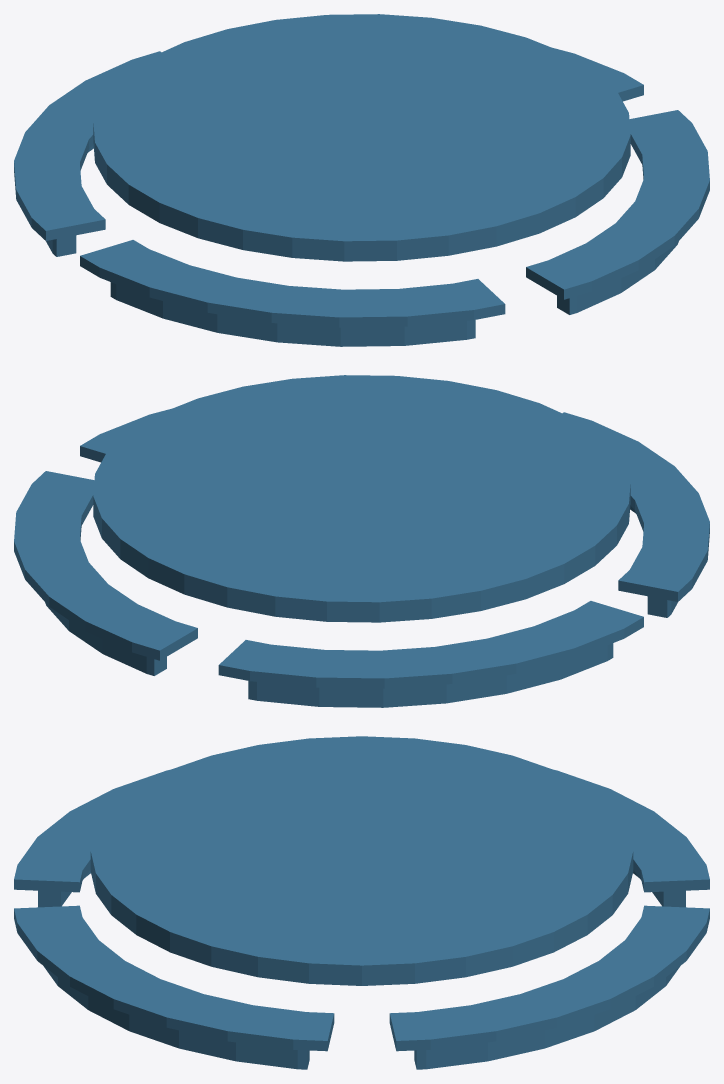
File: Diningroom-table.glb
3 renders of one model, top to bottom at view 1: azimuth 30°, elevation 25°; view 2: azimuth 150°, elevation 25°; view 3: azimuth 270°, elevation 25°, orthographic.
Parts seen in each view (by area): view 1: Cylinder; view 2: Cylinder; view 3: Cylinder.
Boxes of the visible parts, <box> form: Cylinder: <box>14,14,709,346</box>; Cylinder: <box>14,375,709,707</box>; Cylinder: <box>14,736,709,1069</box>.
Bounding box in the file's own units: 15.39 × 2 × 15.39.
